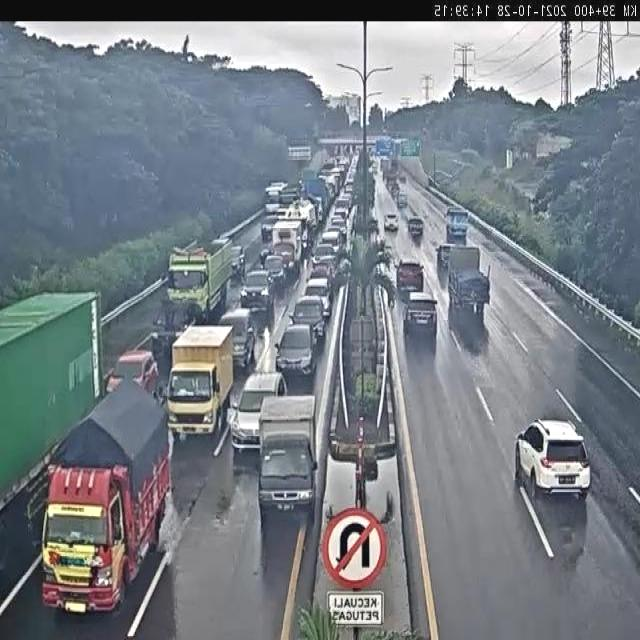Bus: (262, 179, 287, 211)
Car: (515, 417, 590, 500), (228, 370, 287, 451), (150, 295, 204, 355), (105, 346, 162, 394), (274, 322, 317, 384), (220, 307, 258, 368), (290, 294, 328, 347), (404, 292, 440, 337), (240, 267, 274, 313), (303, 276, 333, 319), (396, 256, 425, 299), (264, 253, 288, 292), (311, 258, 335, 285), (314, 240, 337, 267), (260, 209, 280, 240), (436, 243, 452, 280), (320, 229, 342, 254), (230, 244, 247, 274), (334, 202, 351, 228), (407, 217, 424, 238), (383, 212, 400, 231), (334, 224, 348, 244), (345, 178, 355, 195), (398, 192, 408, 208), (398, 174, 406, 183)
Truck: (38, 379, 172, 618), (0, 283, 104, 581), (164, 322, 234, 441), (254, 396, 318, 516), (165, 238, 237, 328), (446, 245, 490, 317), (269, 217, 306, 278), (283, 198, 317, 252), (305, 177, 329, 220), (445, 204, 469, 242), (279, 182, 303, 207), (347, 201, 358, 227), (380, 156, 391, 174)
